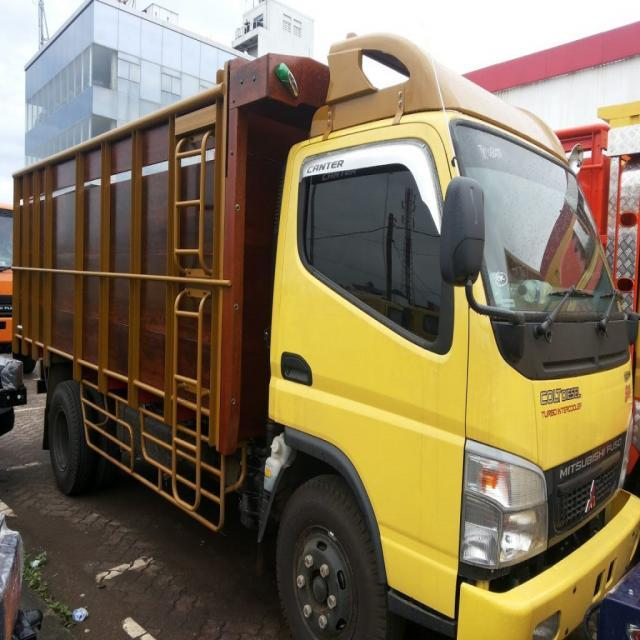bicycle: (12, 35, 640, 639)
